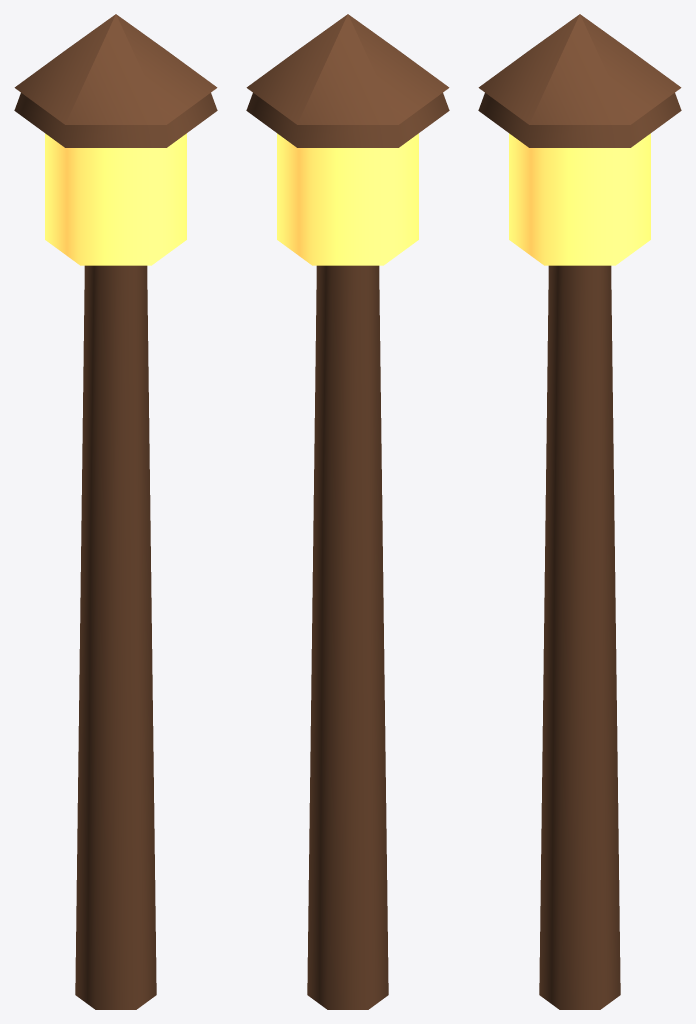
Rendered from lantern.glb.
3 views of the same model, side by side, from view 1: azimuth 30°, elevation 25°; view 2: azimuth 150°, elevation 25°; view 3: azimuth 270°, elevation 25° (orthographic).
Size of the model in its own units: 0.3464 by 2.13 by 0.4.
